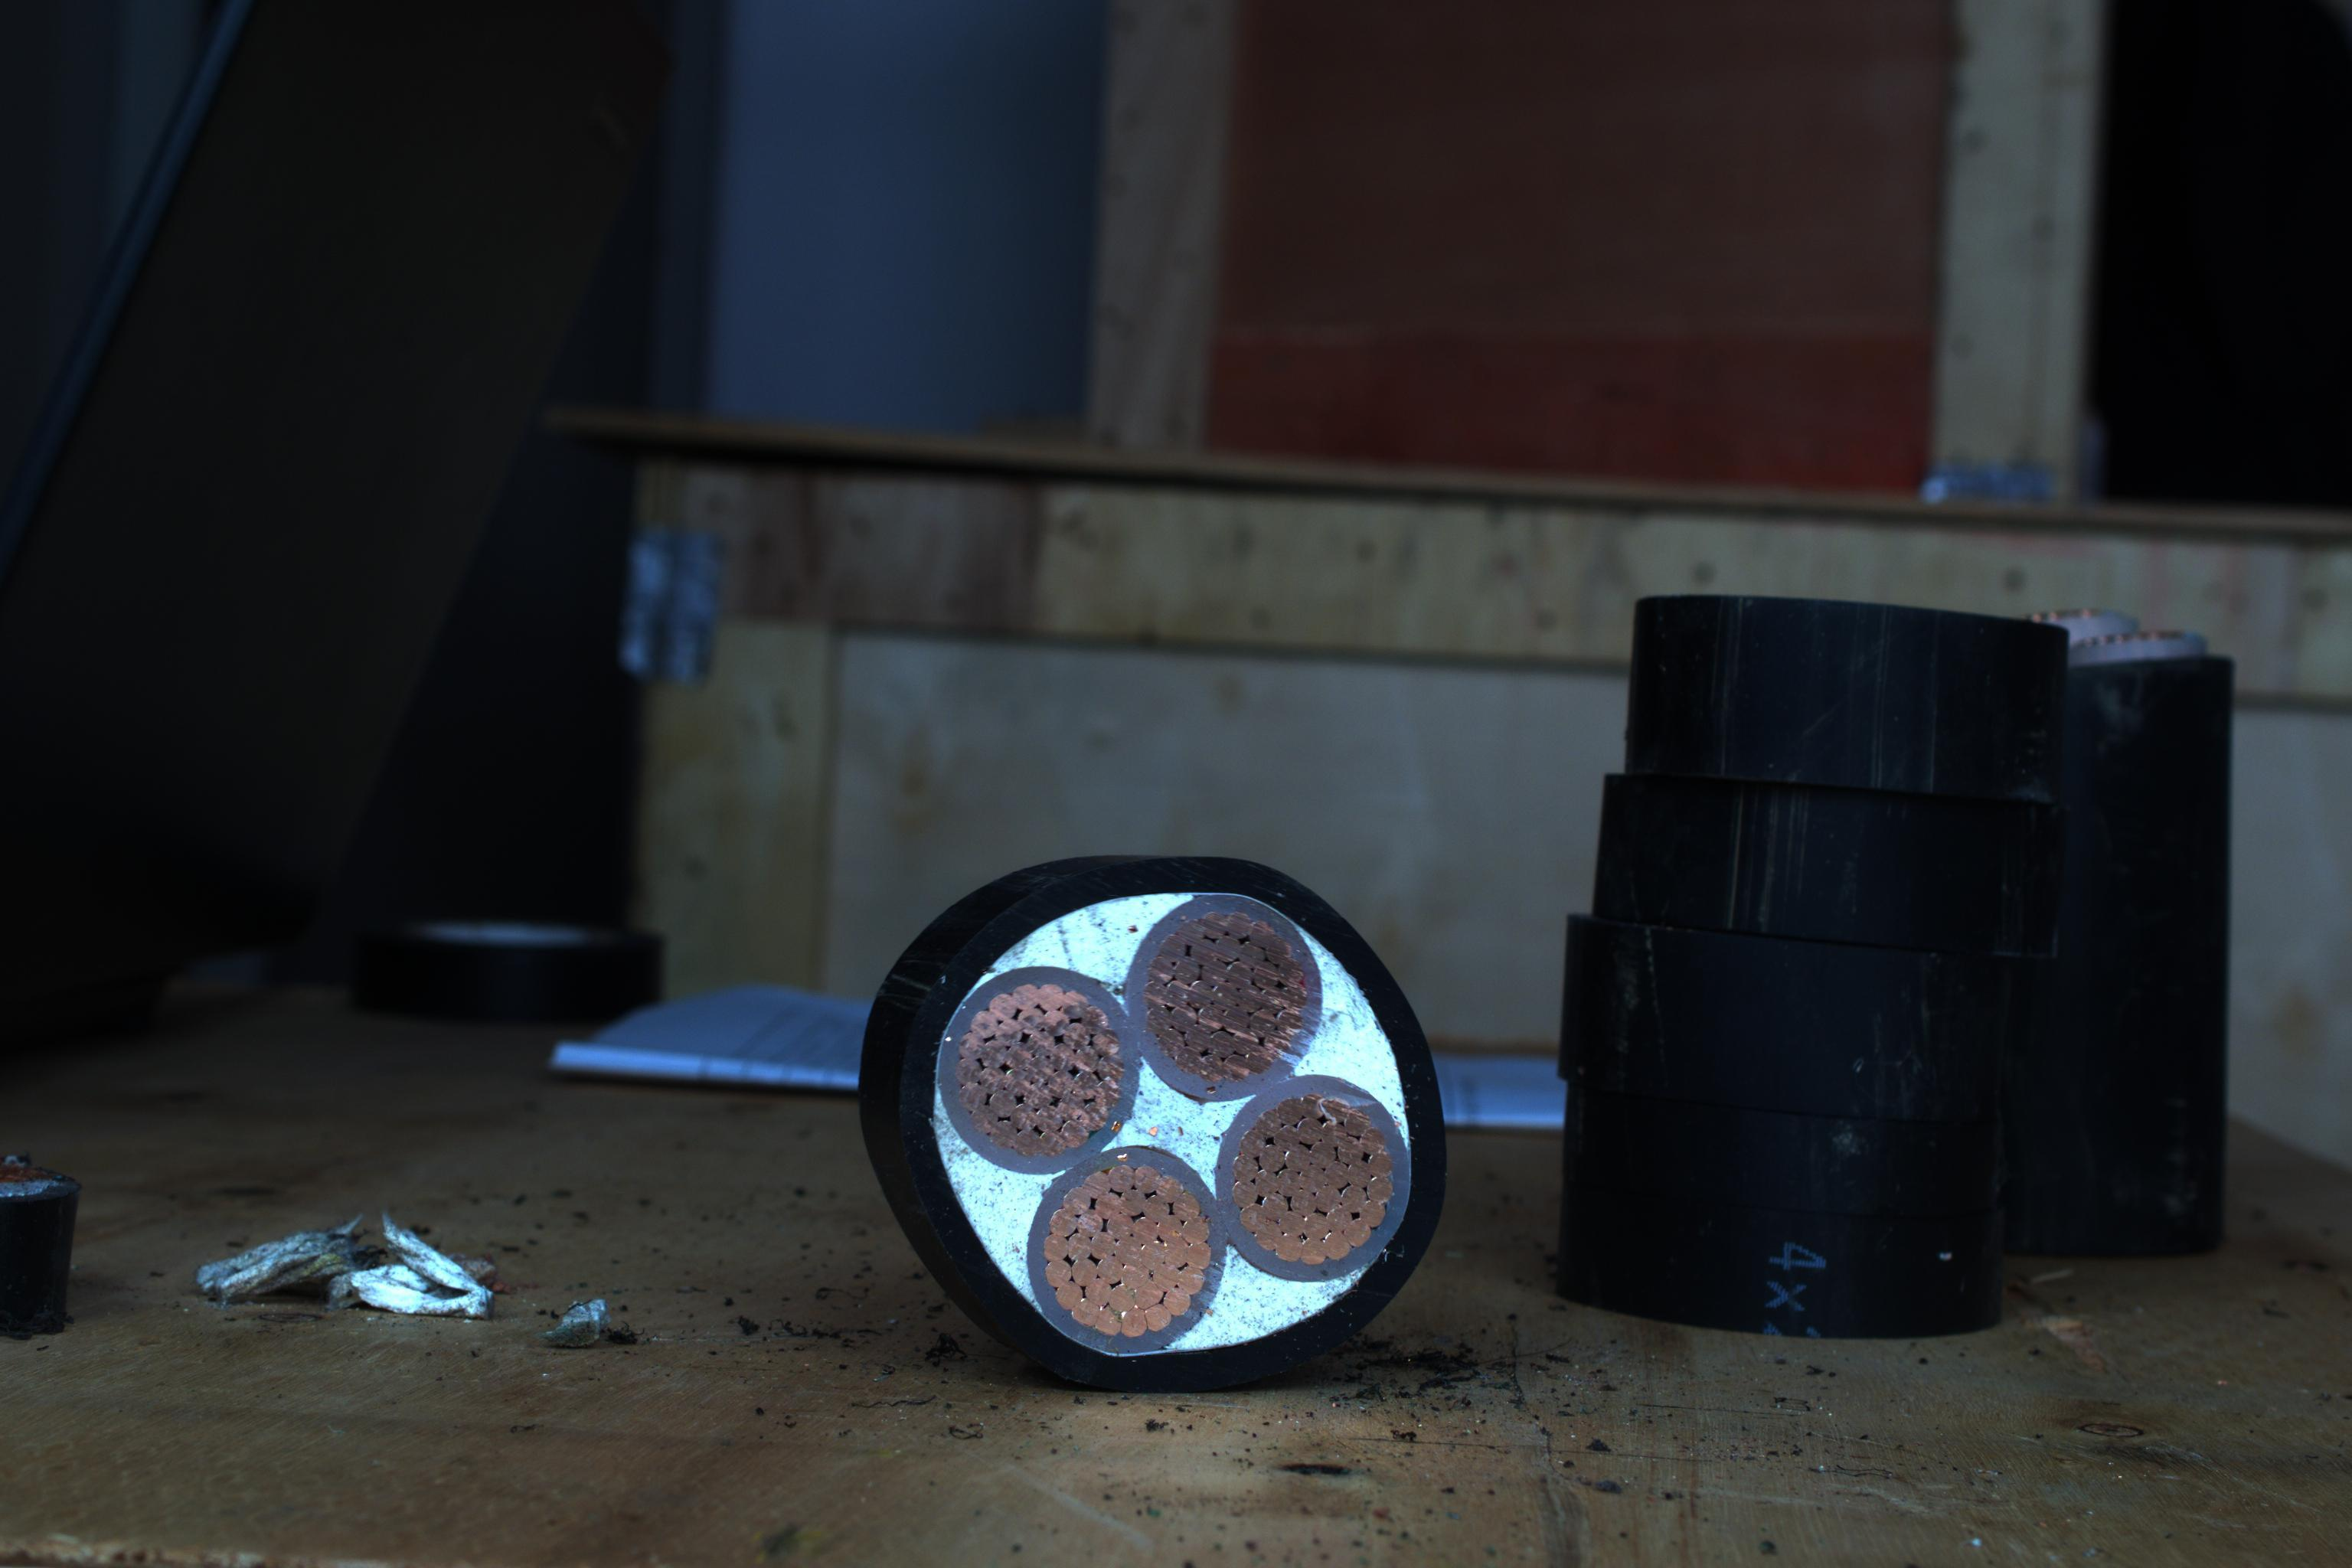YJV_0.6_1kV_4x240: (919, 875, 1458, 1367)
